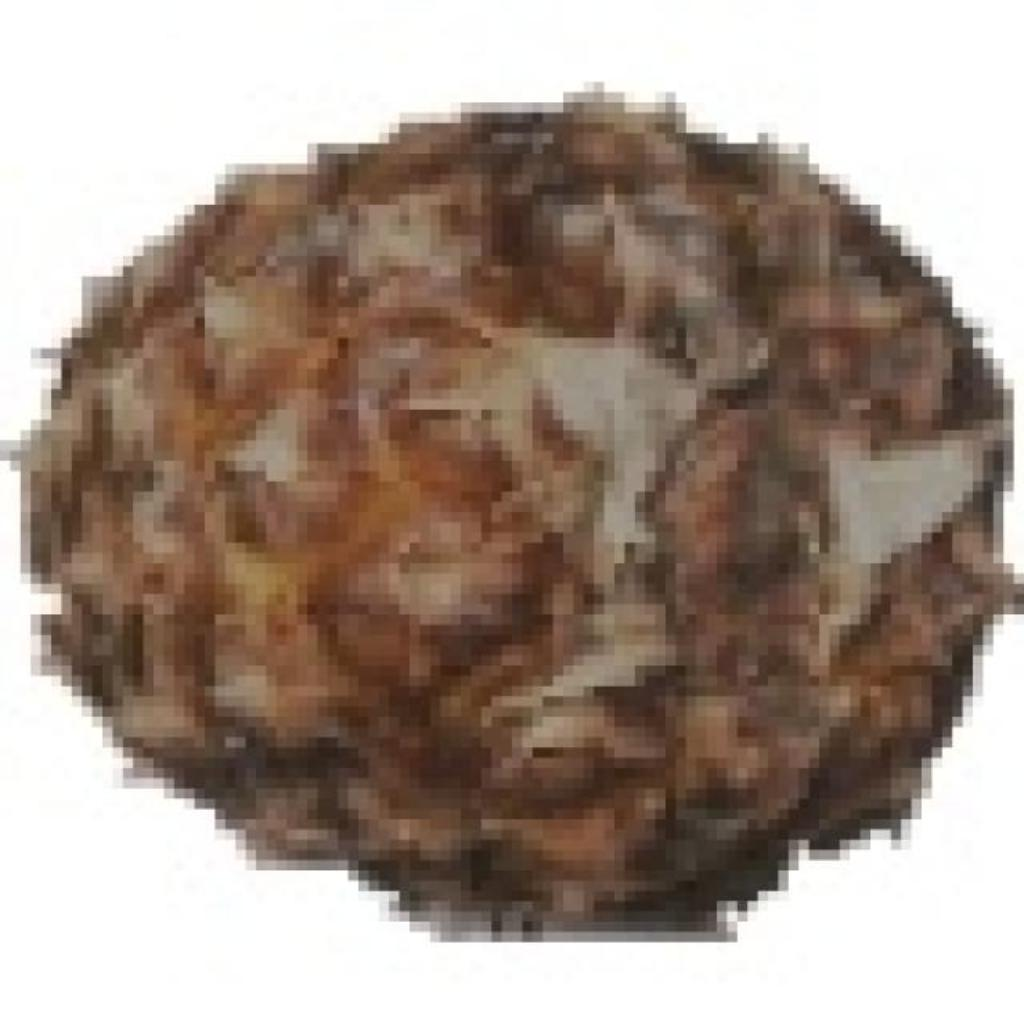pineapple: (10, 82, 993, 911)
